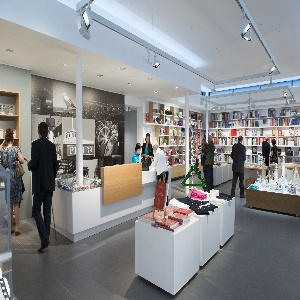triangle: (179, 163, 208, 188)
